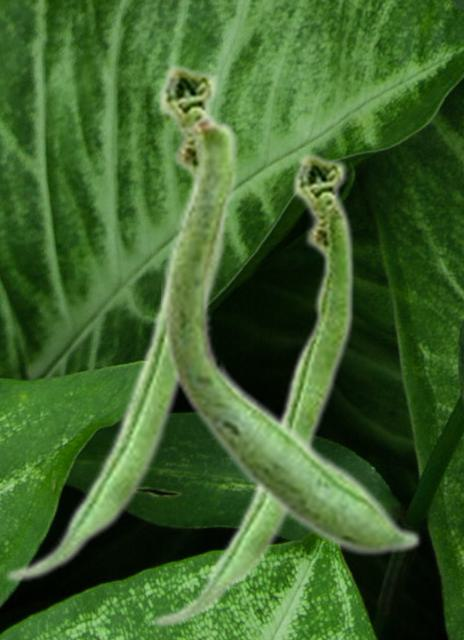french_bean: (3, 61, 226, 583), (161, 110, 421, 556), (150, 150, 354, 628)
